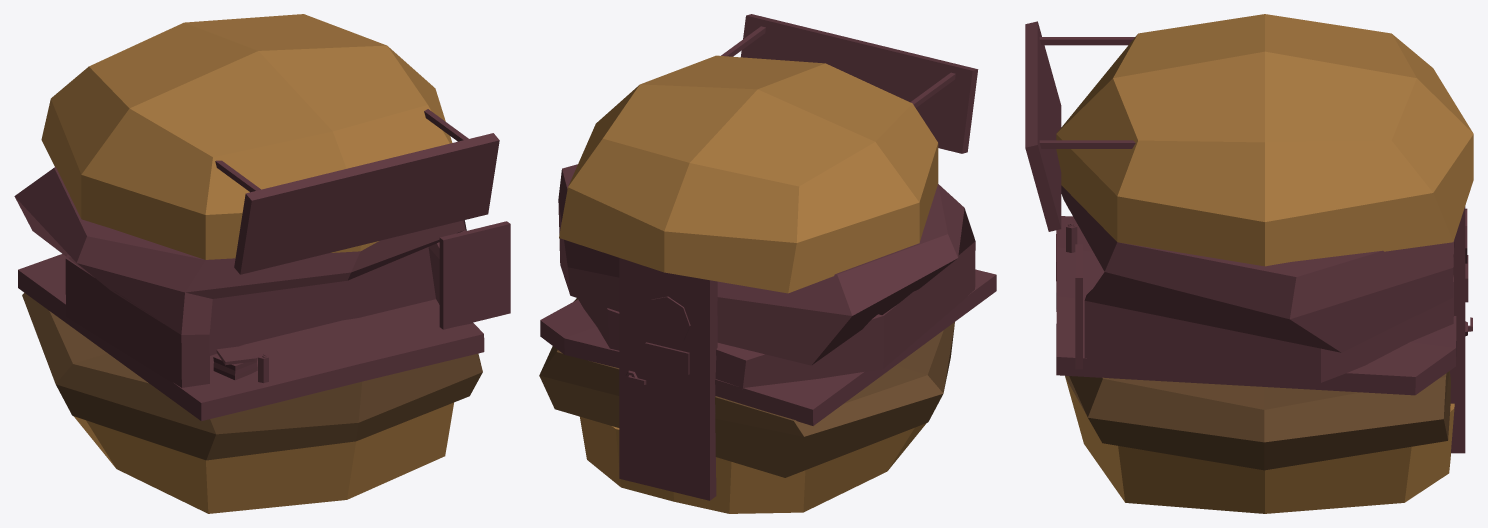
Rendered from amusement-park-burger-stall.glb.
3 renders of one model, left to right at view 1: azimuth 30°, elevation 25°; view 2: azimuth 150°, elevation 25°; view 3: azimuth 270°, elevation 25°, orthographic. The views are drawn at different scales.
Visible parts, largest first — view 1: burger-stall; view 2: burger-stall; view 3: burger-stall.
Boxes of the visible parts, <box> form: burger-stall: <box>14,14,510,513</box>; burger-stall: <box>539,14,996,513</box>; burger-stall: <box>1025,14,1473,513</box>.
Bounding box in the file's own units: 3.35 × 3.01 × 3.12.
